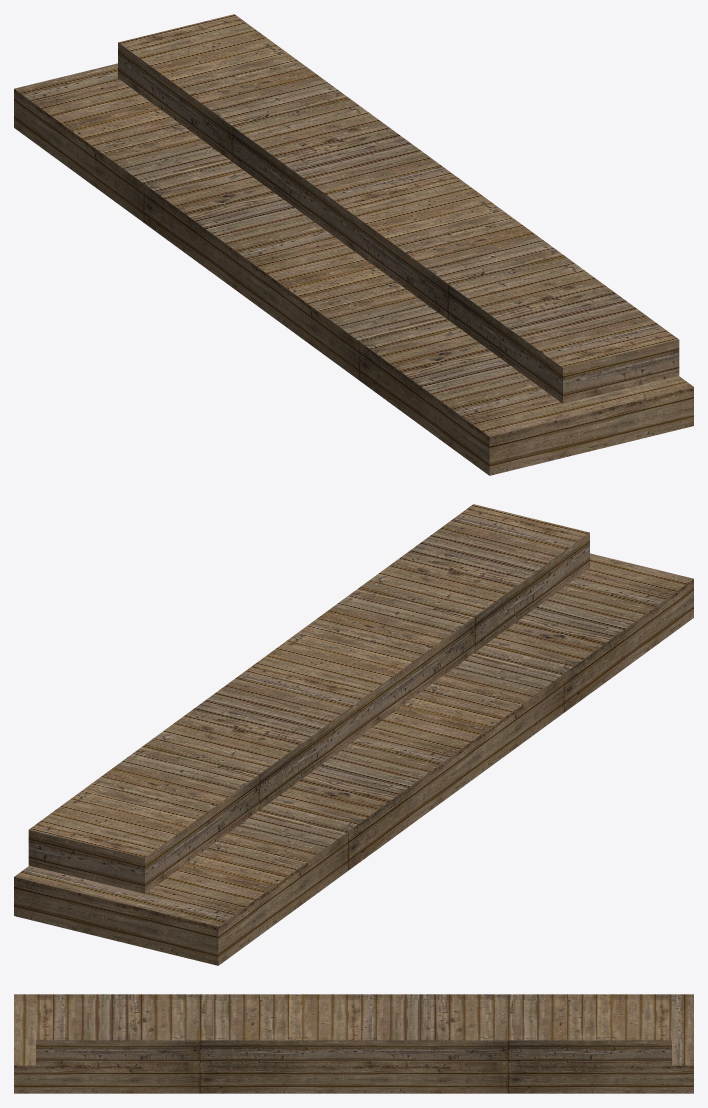
The model's file is OU_AR_House_Step_01_D.fbx.
The picture shows the model from 3 angles, top to bottom: view 1: azimuth 30°, elevation 25°; view 2: azimuth 150°, elevation 25°; view 3: azimuth 270°, elevation 25°; orthographic projection. The views are drawn at different scales.
Visible parts, largest first — view 1: House_Step; view 2: House_Step; view 3: House_Step.
Boxes of the visible parts, <box> form: House_Step: <box>14,14,693,475</box>; House_Step: <box>14,504,693,965</box>; House_Step: <box>14,994,693,1093</box>.
Size of the model in its own units: 54.93 by 19.17 by 221.
Materials: 1 (1 with a texture image).
